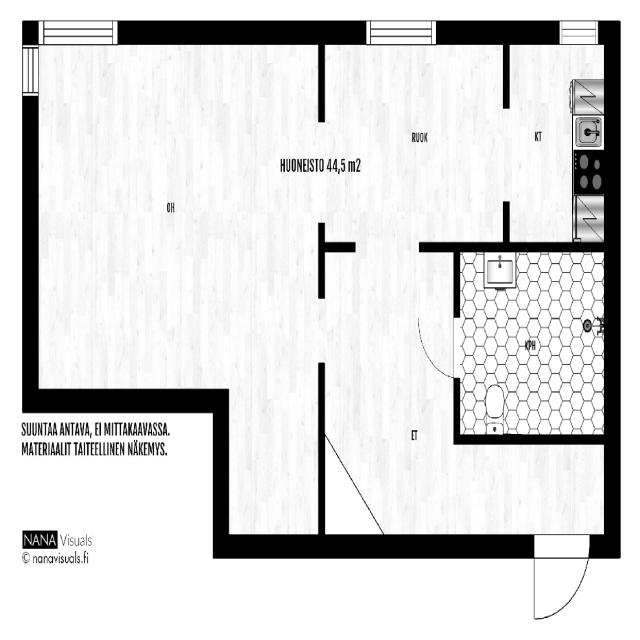door: (36, 39, 316, 390), (326, 38, 503, 250), (453, 251, 606, 441), (506, 33, 603, 244)
window: (31, 10, 122, 50), (355, 12, 442, 46), (546, 8, 604, 52), (19, 36, 43, 108)
zone: (525, 538, 589, 628), (413, 309, 459, 389)
